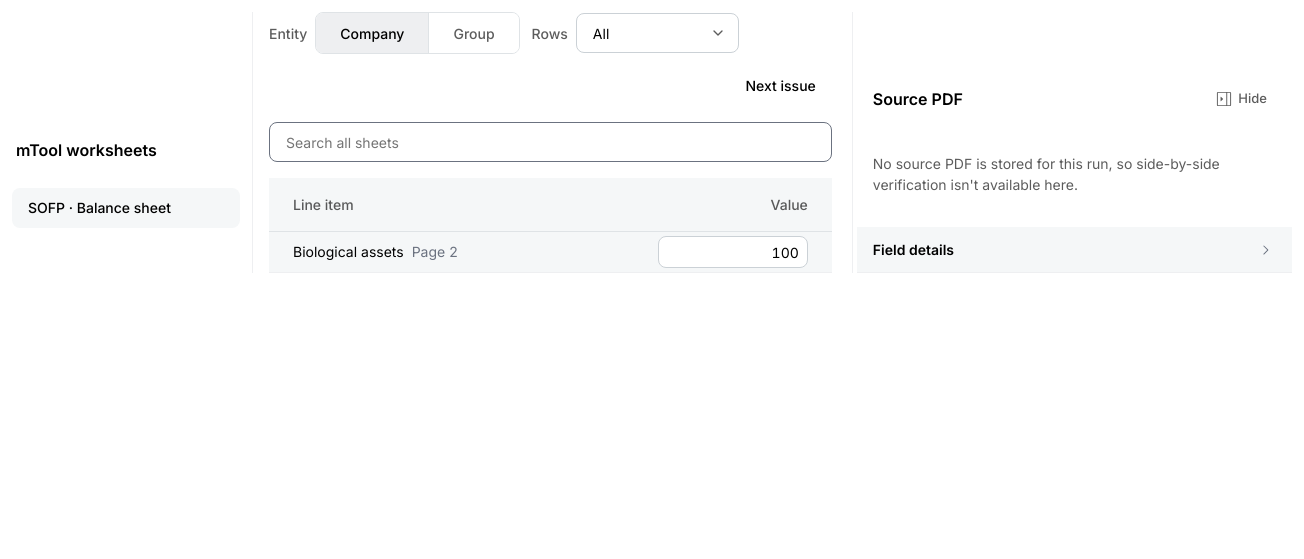
Test case: ConceptsPage › entity_scope toggle swaps source evidence with the value
Expected: the element with test id "entity-scope-toggle" is shown, left=315, top=12, right=520, bottom=54
Click the tab with test id "scope-btn-Group".
click(474, 33)  # box left=429, top=13, right=519, bottom=53
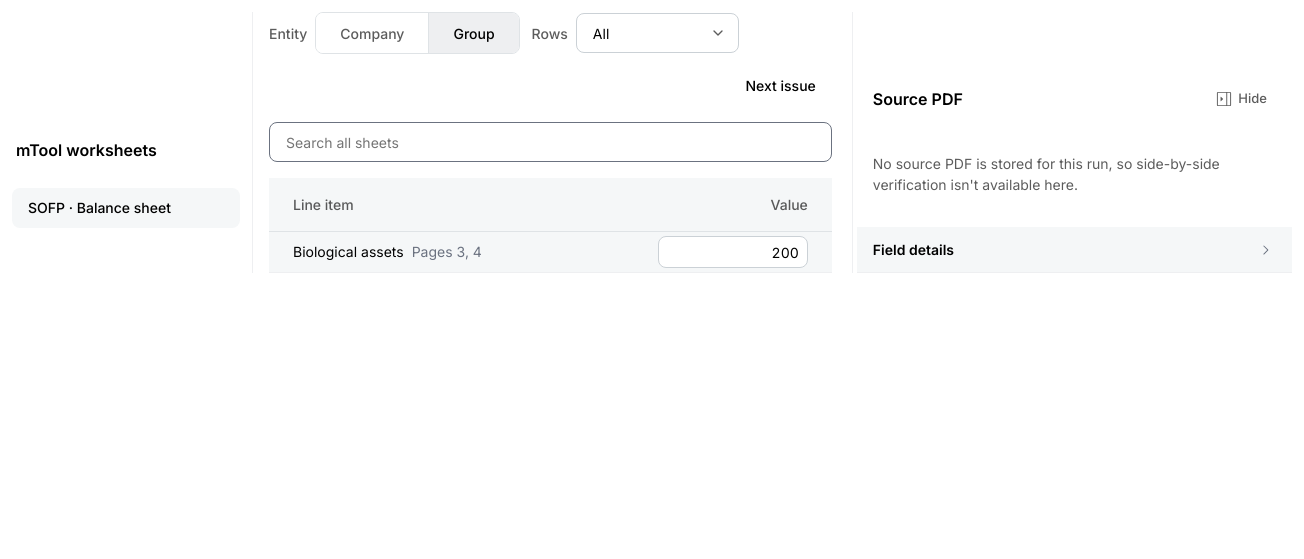
Expected: the button with aria-label "open source" reads "Pages 3, 4", left=412, top=242, right=482, bottom=262
Click the button with test id "panel-details-toggle".
click(913, 250)  # box left=857, top=227, right=1292, bottom=273
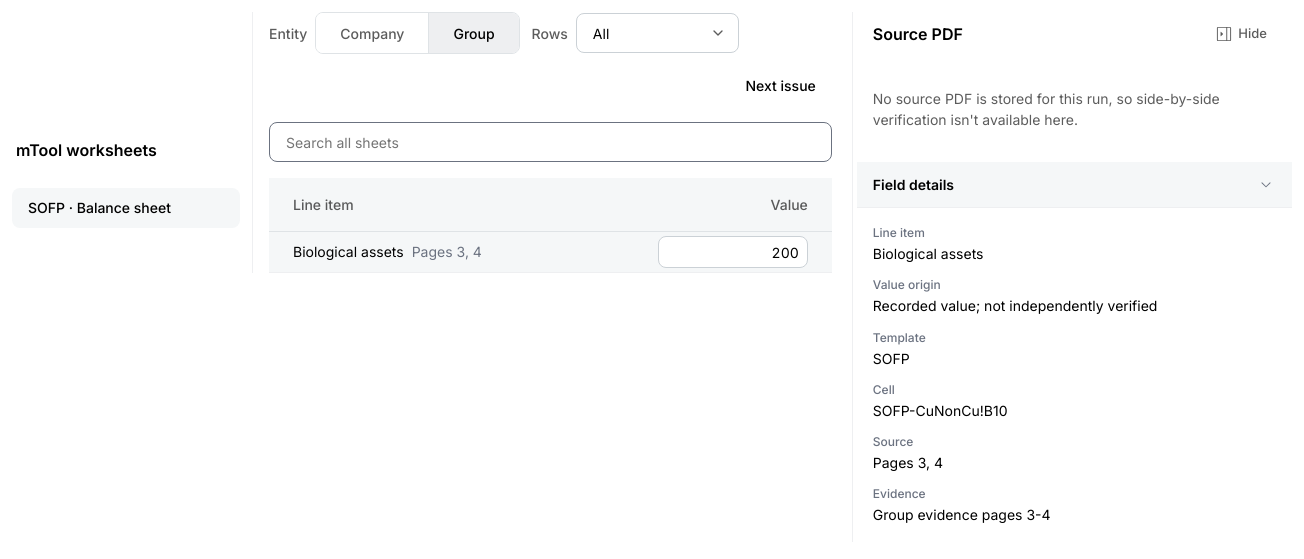
Expected: the text "Group evidence pages 3-4" is shown, left=873, top=506, right=1050, bottom=524
